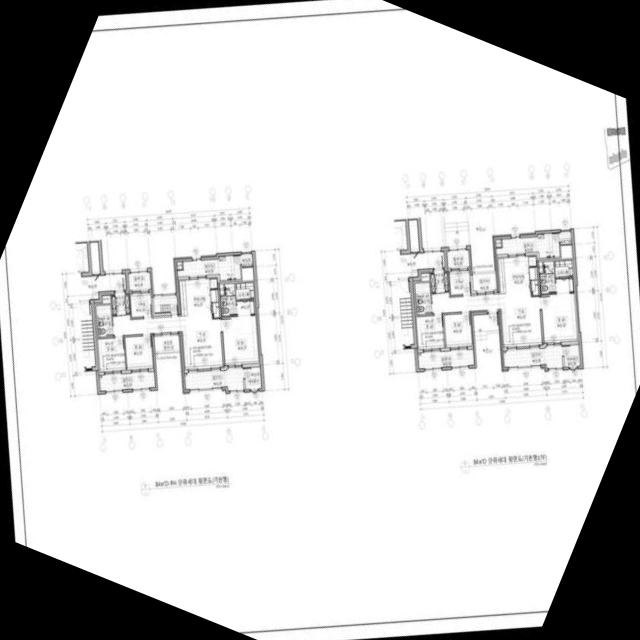background: (0, 0, 640, 640)
space_balconi: (177, 254, 241, 280), (496, 232, 559, 257), (184, 366, 243, 389), (503, 344, 562, 367), (417, 348, 473, 368), (99, 371, 154, 390), (472, 272, 496, 290), (128, 271, 150, 290), (153, 334, 179, 350), (446, 249, 469, 267)
space_bedroom: (221, 299, 259, 365), (540, 277, 578, 343), (96, 336, 125, 372), (124, 334, 153, 370), (443, 312, 472, 348), (415, 314, 444, 350)
space_dressroom: (235, 281, 255, 298), (554, 259, 573, 276)
space_elevator_hall: (396, 251, 444, 277), (77, 273, 125, 299)
space_front: (430, 268, 448, 292), (111, 291, 129, 314)
space_kitchen: (496, 253, 537, 293), (177, 276, 218, 315)
space_living_room: (112, 313, 223, 370), (431, 291, 541, 347)
space_other: (448, 268, 471, 294), (130, 291, 153, 316), (244, 366, 261, 388), (563, 344, 579, 366), (212, 301, 219, 316), (531, 279, 538, 294), (101, 294, 110, 303), (420, 272, 429, 281), (219, 283, 223, 294), (176, 261, 182, 268), (495, 239, 501, 246), (538, 261, 542, 271)
space_outdoor_room: (559, 230, 571, 243), (240, 253, 252, 266), (560, 244, 572, 257)
space_staircase: (398, 280, 413, 345), (153, 295, 177, 313)
space_toilet: (414, 281, 431, 314), (95, 304, 112, 336), (220, 282, 236, 315), (539, 260, 555, 293)
